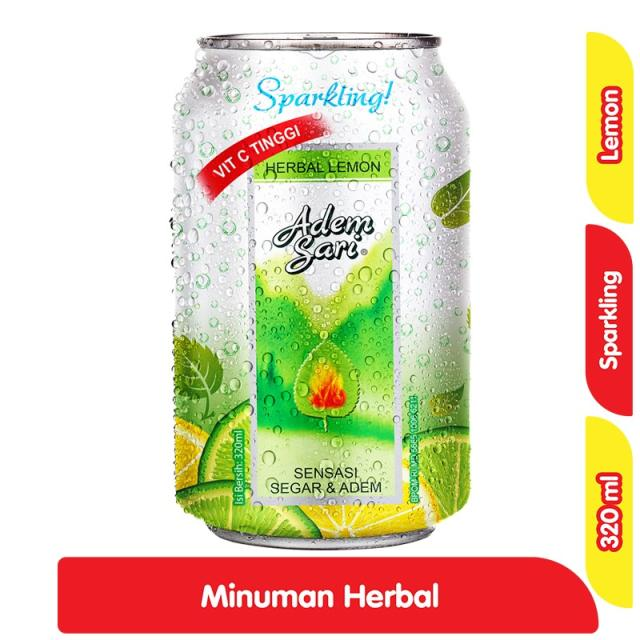ademsarikaleng: (168, 31, 473, 550)
